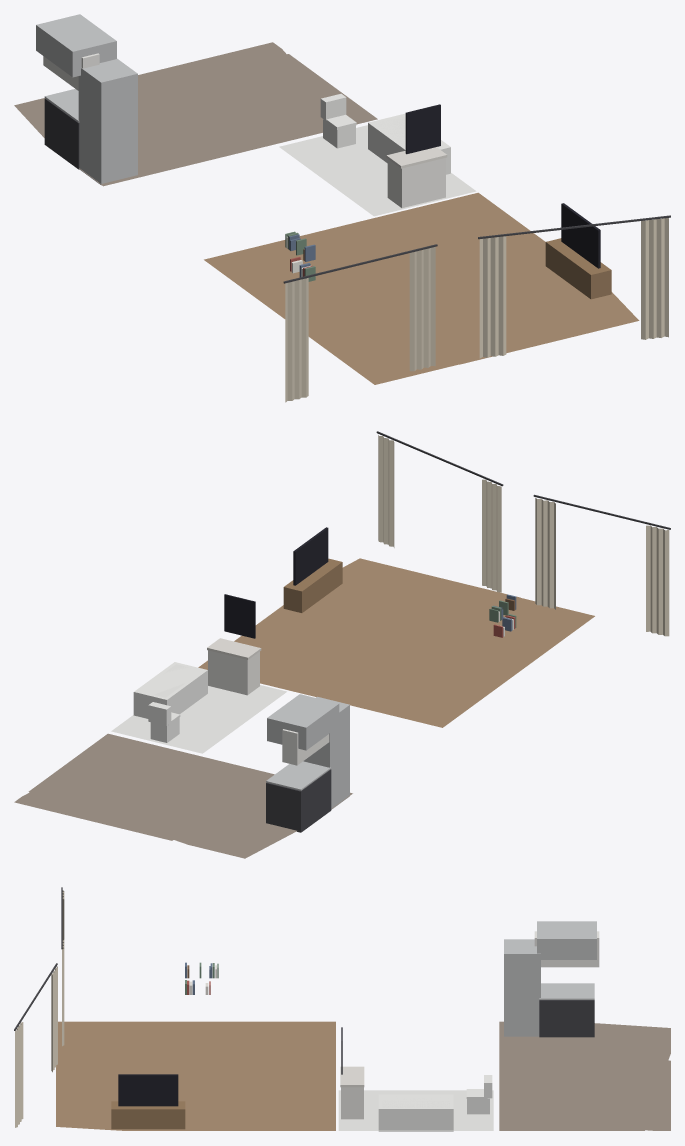
Rendered from fine-s1.glb.
The picture shows the model from 3 angles, top to bottom: view 1: azimuth 30°, elevation 25°; view 2: azimuth 150°, elevation 25°; view 3: azimuth 270°, elevation 25°; orthographic projection. The views are drawn at different scales.
Visible parts, largest first — view 1: soft-s1, fridge.000, range.000, vanity.000, tv-console.001, bathtub.000, toilet.000, kitchen-upper.000; view 2: soft-s1, range.000, vanity.000, tv-console.001, bathtub.000, fridge.000, toilet.000, kitchen-upper.000; view 3: soft-s1, range.000, tv-console.001, fridge.000, bathtub.000, vanity.000, toilet.000, kitchen-upper.000.
Part boxes in pixels (x1,y1,x2,y2): soft-s1: (14, 42, 670, 402); fridge.000: (78, 58, 137, 185); range.000: (36, 14, 116, 169); vanity.000: (386, 104, 447, 207); tv-console.001: (545, 203, 611, 299); bathtub.000: (368, 113, 450, 174); toilet.000: (320, 93, 356, 148); kitchen-upper.000: (43, 53, 99, 90); soft-s1: (14, 431, 670, 858); range.000: (266, 694, 339, 832); vanity.000: (207, 594, 261, 695); tv-console.001: (283, 527, 342, 612); bathtub.000: (133, 662, 207, 718); fridge.000: (303, 696, 349, 809); toilet.000: (148, 702, 180, 742); kitchen-upper.000: (282, 729, 329, 765); soft-s1: (14, 887, 670, 1130); range.000: (537, 921, 596, 1037); tv-console.001: (111, 1074, 185, 1129); fridge.000: (504, 939, 540, 1036); bathtub.000: (378, 1094, 453, 1131); vanity.000: (340, 1027, 364, 1119); toilet.000: (466, 1075, 492, 1114); kitchen-upper.000: (534, 931, 599, 967).
Bounding box in the file's own units: 7.39 × 2.41 × 14.23.
